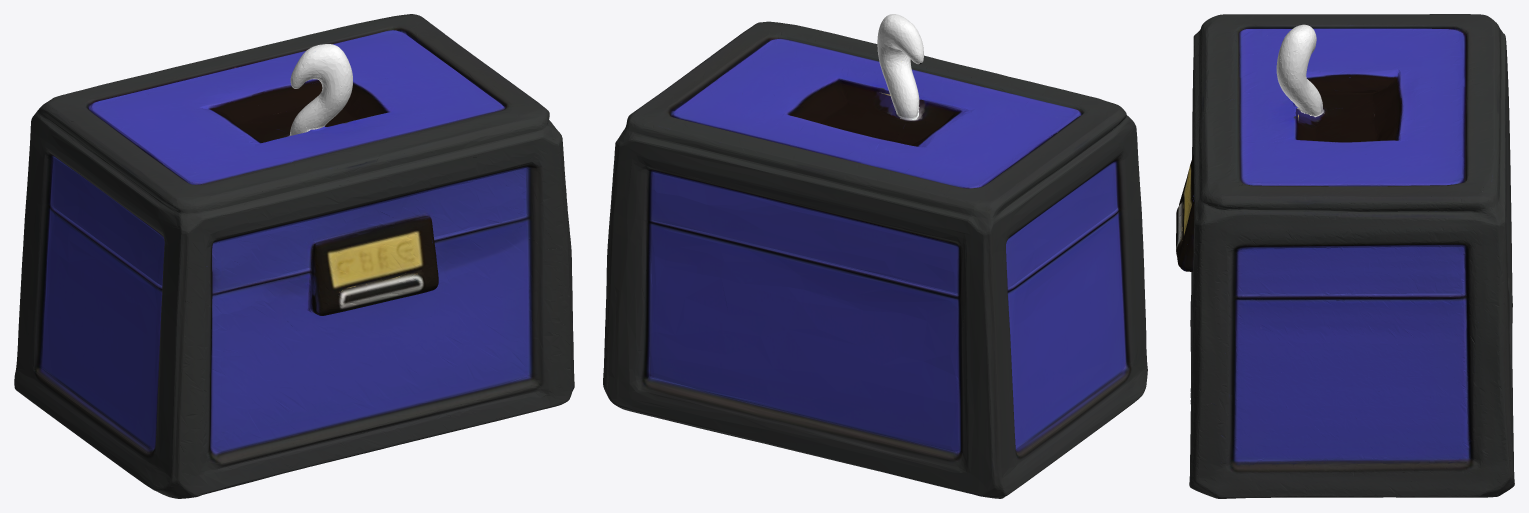
File: rare.glb
The picture shows the model from 3 angles, left to right: view 1: azimuth 30°, elevation 25°; view 2: azimuth 150°, elevation 25°; view 3: azimuth 270°, elevation 25°; orthographic projection. The views are drawn at different scales.
Parts seen in each view (by area): view 1: world; view 2: world; view 3: world.
Boxes of the visible parts, x1,y1,x2,y2 form: world: [14, 14, 574, 498]; world: [603, 14, 1147, 498]; world: [1176, 14, 1514, 498].
Size of the model in its own units: 2 by 1.73 by 1.4.
Materials: 1 (1 with a texture image).
